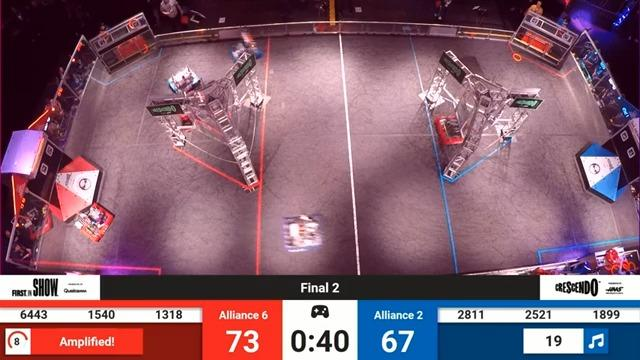robot: (281, 210, 326, 253), (78, 197, 121, 242), (433, 104, 472, 147), (226, 26, 264, 65), (164, 97, 203, 132), (168, 66, 200, 96)
